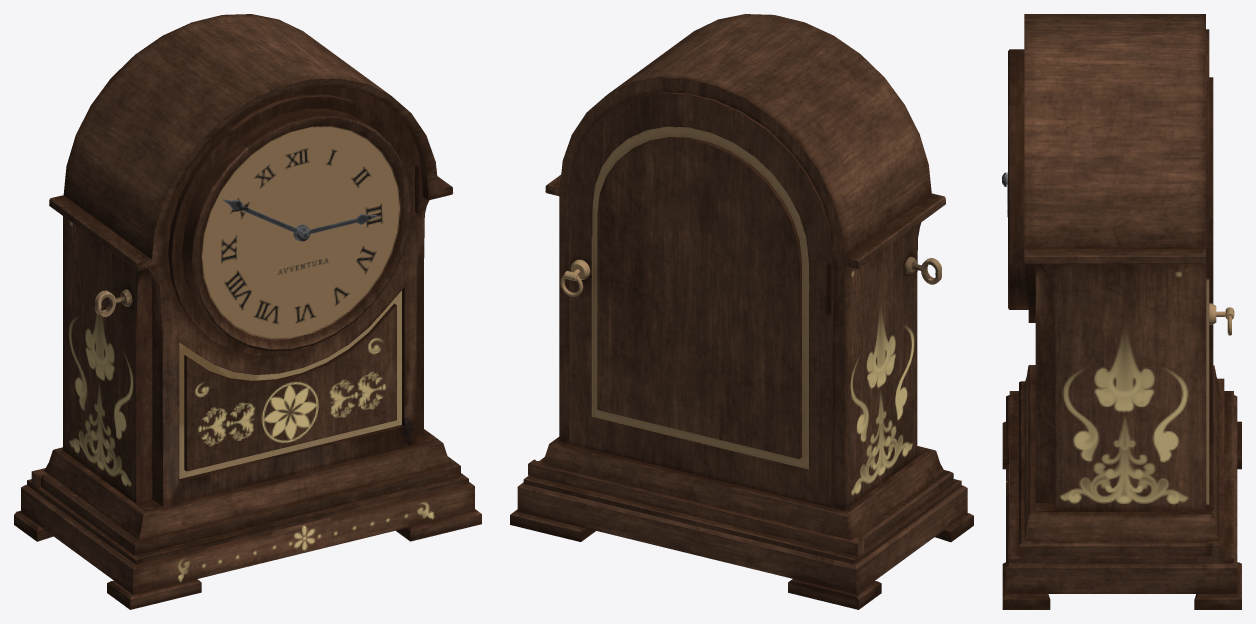
The model's file is Livingroom_Clock.fbx.
3 views of the same model, side by side, from view 1: azimuth 30°, elevation 25°; view 2: azimuth 150°, elevation 25°; view 3: azimuth 270°, elevation 25° (orthographic). The views are drawn at different scales.
Parts seen in each view (by area): view 1: clock; view 2: clock; view 3: clock.
Part boxes in pixels (x1,y1,x2,y2): clock: [14, 14, 481, 609]; clock: [510, 14, 973, 609]; clock: [1002, 14, 1241, 609].
Bounding box in the file's own units: 47.12 × 27.02 × 60.92.
1 material, 1 textured.
